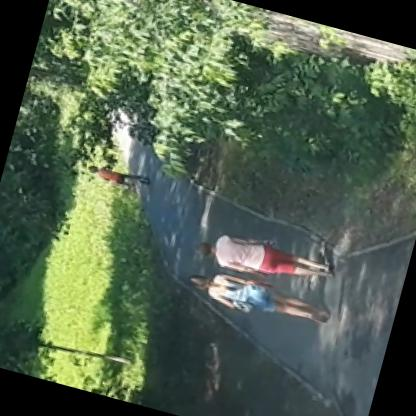Human Body: (176, 254, 338, 337), (184, 216, 342, 300), (76, 147, 154, 202)
